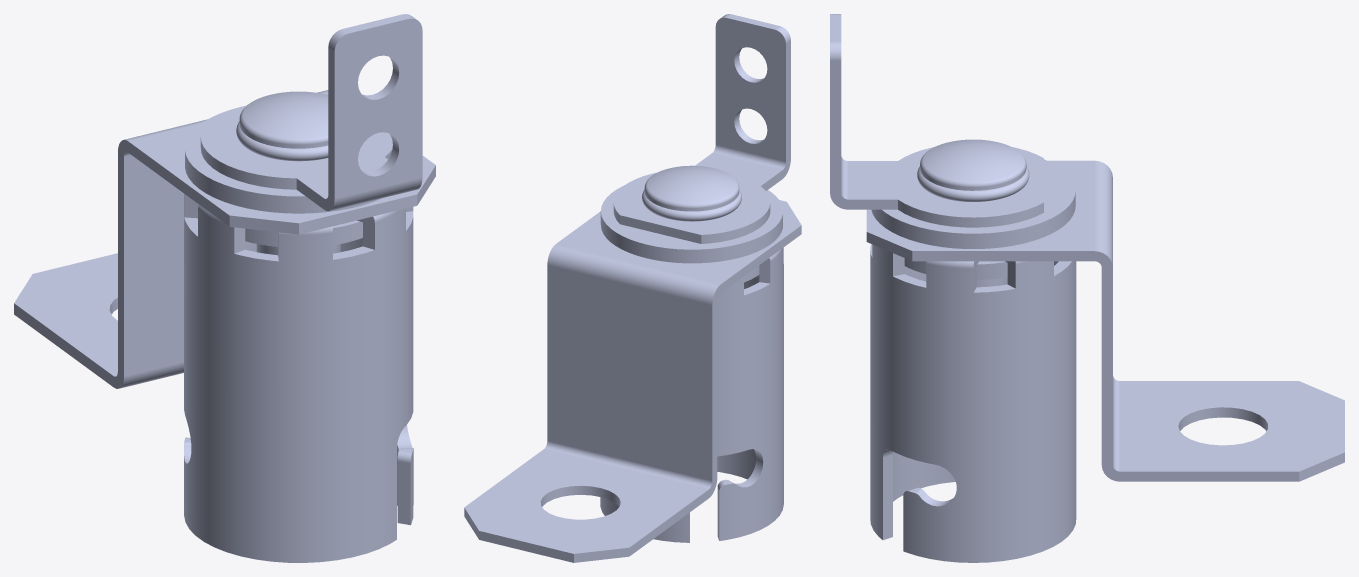
The model's file is Lamp Socket 44, Under Playfield, Bally (possibly E-120-84).fbx.
The picture shows the model from 3 angles, left to right: view 1: azimuth 30°, elevation 25°; view 2: azimuth 150°, elevation 25°; view 3: azimuth 270°, elevation 25°; orthographic projection. The views are drawn at different scales.
Visible parts, largest first — view 1: 44 Socket base, 44 mtg bkt 500, 44 - 90 Tab, 44 Rivet spring etc, Fiber washer, Fiber washer INNER; view 2: 44 mtg bkt 500, 44 Socket base, 44 - 90 Tab, Fiber washer, 44 Rivet spring etc; view 3: 44 Socket base, 44 mtg bkt 500, 44 - 90 Tab, 44 Rivet spring etc, Fiber washer, Fiber washer INNER.
Part boxes in pixels (<box>): 44 Socket base: <box>184,193,413,562</box>; 44 mtg bkt 500: <box>14,90,435,388</box>; 44 - 90 Tab: <box>200,14,422,211</box>; 44 Rivet spring etc: <box>236,91,340,255</box>; Fiber washer: <box>185,105,380,213</box>; Fiber washer INNER: <box>245,220,362,246</box>; 44 mtg bkt 500: <box>464,200,801,562</box>; 44 Socket base: <box>600,247,783,542</box>; 44 - 90 Tab: <box>613,14,790,243</box>; Fiber washer: <box>600,186,782,263</box>; 44 Rivet spring etc: <box>642,165,741,221</box>; 44 Socket base: <box>870,244,1076,562</box>; 44 mtg bkt 500: <box>866,160,1344,481</box>; 44 - 90 Tab: <box>830,14,1043,227</box>; 44 Rivet spring etc: <box>917,139,1029,287</box>; Fiber washer: <box>871,159,1075,248</box>; Fiber washer INNER: <box>904,258,1007,279</box>.
Size of the model in its own units: 1.12 by 2.83 by 2.69.
